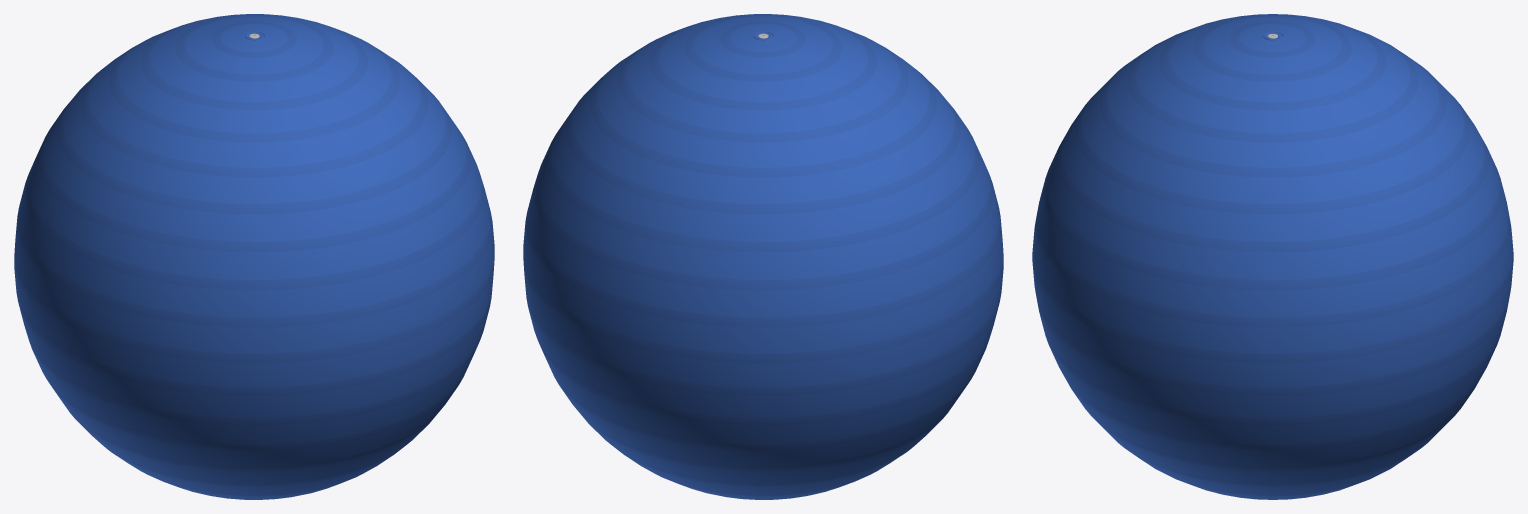
The model's file is gog_art-room_gymball_mesh.fbx.
The picture shows the model from 3 angles, left to right: view 1: azimuth 30°, elevation 25°; view 2: azimuth 150°, elevation 25°; view 3: azimuth 270°, elevation 25°; orthographic projection.
Visible parts, largest first — view 1: pCylinder2; view 2: pCylinder2; view 3: pCylinder2.
Part boxes in pixels (bbox=[...]): pCylinder2: bbox=[14, 14, 494, 499]; pCylinder2: bbox=[523, 14, 1003, 499]; pCylinder2: bbox=[1032, 14, 1513, 499].
Bounding box in the file's own units: 59.16 × 59.97 × 59.16.
